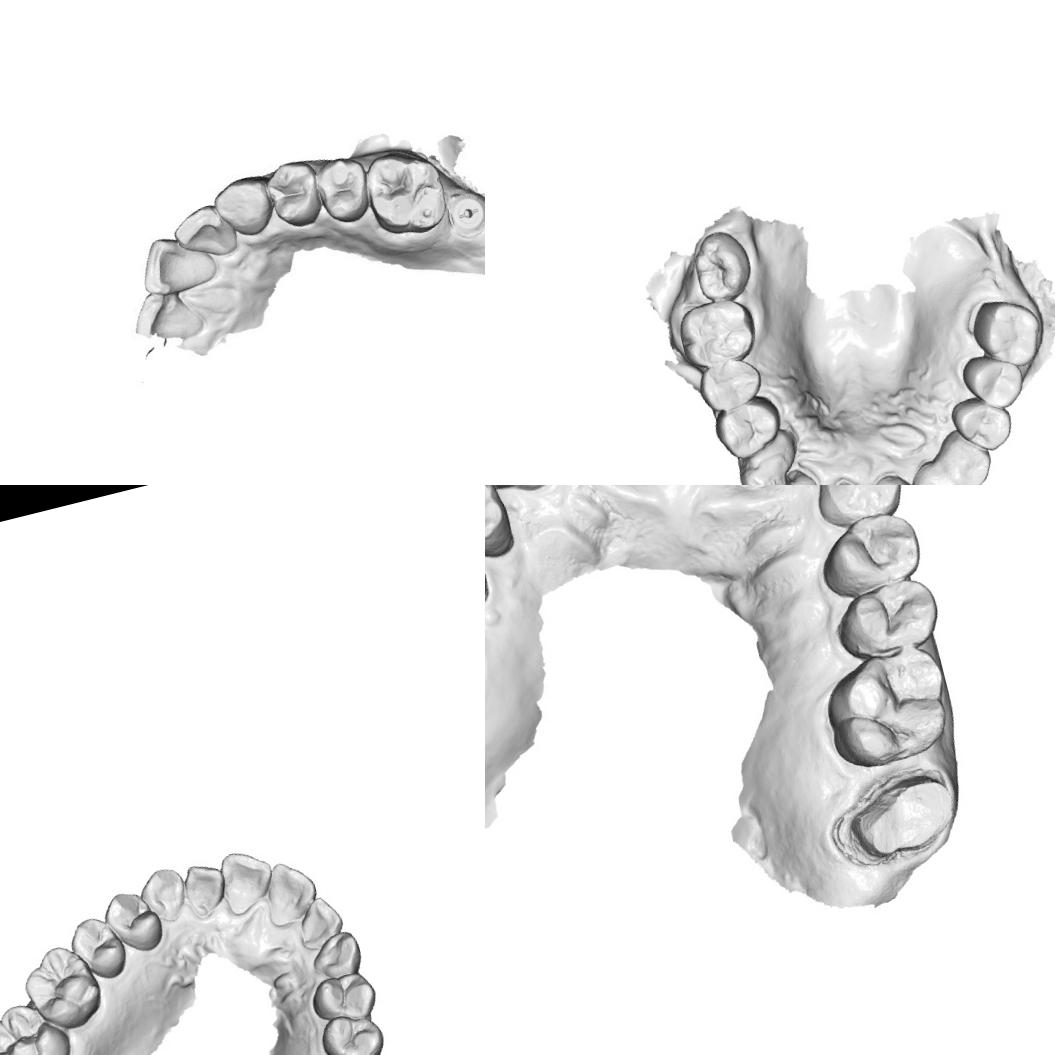canine: (799, 485, 914, 535), (207, 170, 278, 244), (134, 862, 192, 928), (305, 926, 369, 984), (936, 425, 997, 485), (733, 444, 799, 485)
crown: (833, 762, 966, 873)
implant_minus: (443, 188, 485, 237)
incisor: (131, 224, 223, 303), (167, 196, 242, 268), (210, 842, 280, 918), (257, 854, 324, 928), (176, 856, 233, 924), (290, 891, 348, 950), (905, 455, 965, 485), (855, 467, 926, 485), (772, 471, 830, 485)
molar: (813, 640, 959, 779), (356, 140, 455, 244), (15, 937, 110, 1039), (964, 288, 1049, 377), (672, 290, 762, 374), (686, 223, 758, 307), (0, 992, 78, 1055)
premolar: (807, 503, 933, 605), (826, 570, 949, 665), (708, 391, 788, 465), (257, 154, 327, 234), (309, 149, 378, 228), (956, 345, 1030, 416), (98, 883, 167, 959), (64, 910, 132, 987), (946, 388, 1019, 459), (691, 353, 767, 414), (306, 967, 381, 1028), (314, 1005, 389, 1055), (485, 485, 522, 573)
